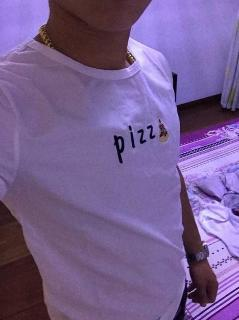short sleeve top: (1, 33, 187, 319)
